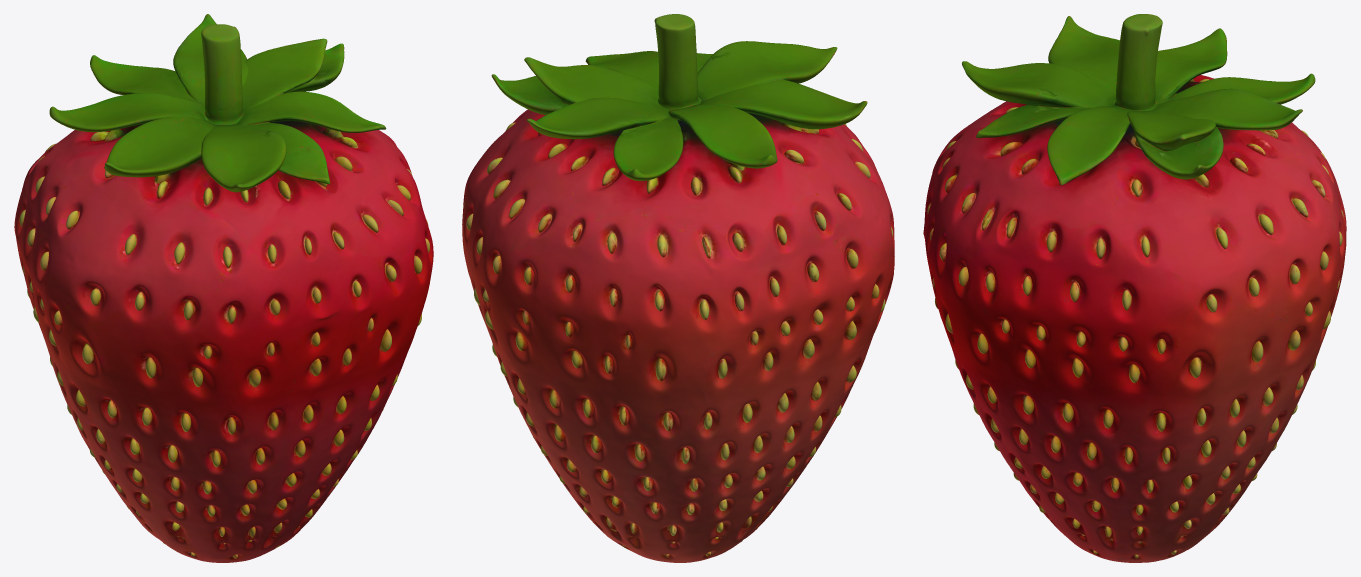
File: strawberry3.glb
3 renders of one model, left to right at view 1: azimuth 30°, elevation 25°; view 2: azimuth 150°, elevation 25°; view 3: azimuth 270°, elevation 25°, orthographic. The views are drawn at different scales.
Parts seen in each view (by area): view 1: tripo_node_d1cfff1c-b18f-4002-b393-ef2ce75cfe8e; view 2: tripo_node_d1cfff1c-b18f-4002-b393-ef2ce75cfe8e; view 3: tripo_node_d1cfff1c-b18f-4002-b393-ef2ce75cfe8e.
Part boxes in pixels (left/top/right/bottom): tripo_node_d1cfff1c-b18f-4002-b393-ef2ce75cfe8e: left=14, top=14, right=433, bottom=562; tripo_node_d1cfff1c-b18f-4002-b393-ef2ce75cfe8e: left=462, top=14, right=894, bottom=562; tripo_node_d1cfff1c-b18f-4002-b393-ef2ce75cfe8e: left=923, top=14, right=1346, bottom=562.
Size of the model in its own units: 24203 by 32767 by 23563.
1 material, 1 textured.
